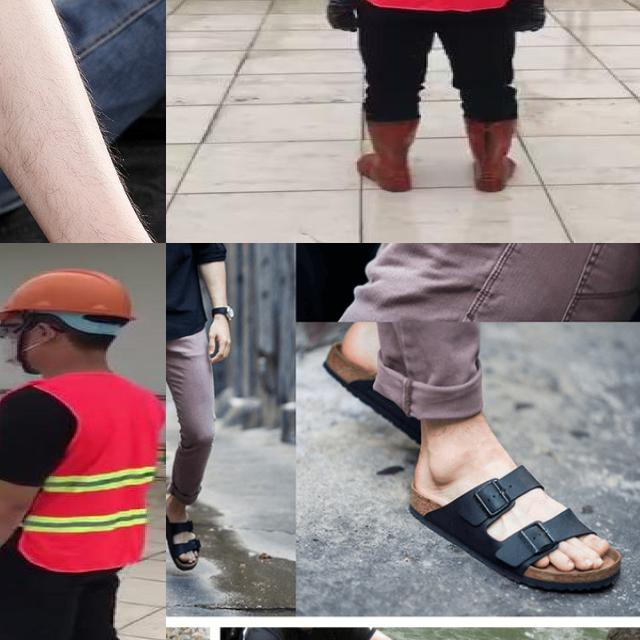Sandals: (408, 428, 626, 589)
boots: (457, 114, 522, 195), (355, 116, 421, 194)
hand_glove: (314, 0, 362, 34), (518, 1, 553, 35)
head_helmet: (0, 268, 139, 324)
person: (0, 267, 166, 640), (306, 0, 565, 196)
vest: (0, 372, 164, 570)
